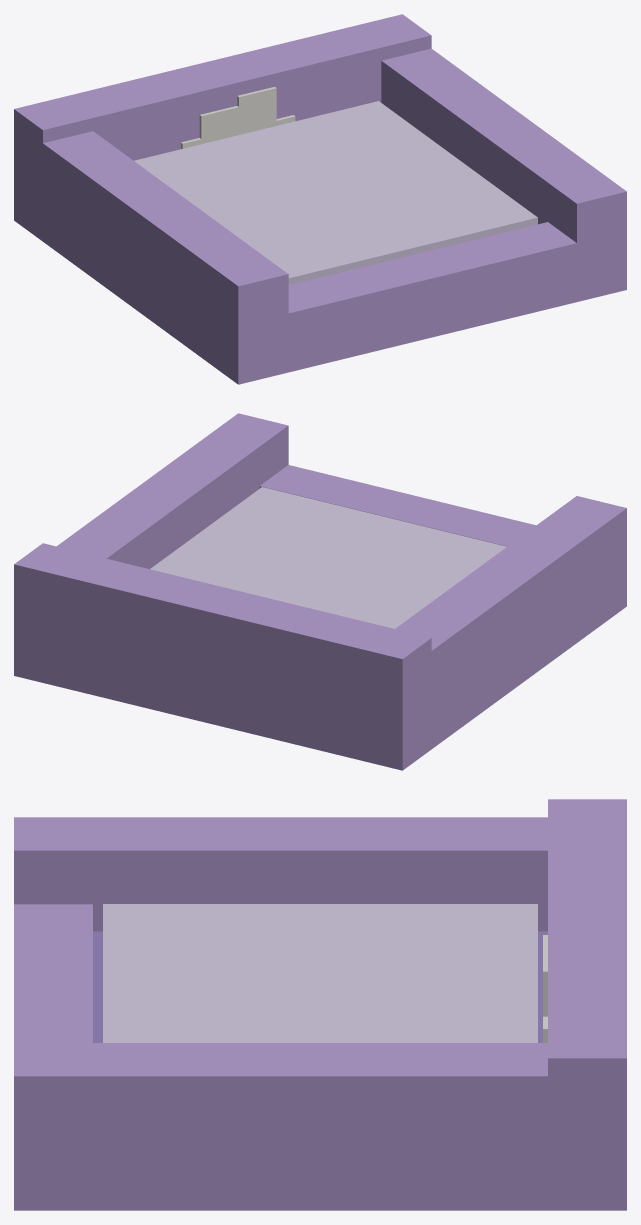
File: ncb-pet-bed-lilac.glb
3 views of the same model, one above another, from view 1: azimuth 30°, elevation 25°; view 2: azimuth 150°, elevation 25°; view 3: azimuth 270°, elevation 25° (orthographic). The views are drawn at different scales.
Visible parts, largest first — view 1: box-prop; view 2: box-prop; view 3: box-prop.
Boxes of the visible parts, x1,y1,x2,y2 form: box-prop: (14,14,626,384); box-prop: (14,413,626,770); box-prop: (14,799,626,1210).
Size of the model in its own units: 1.24 by 0.34 by 1.24.
